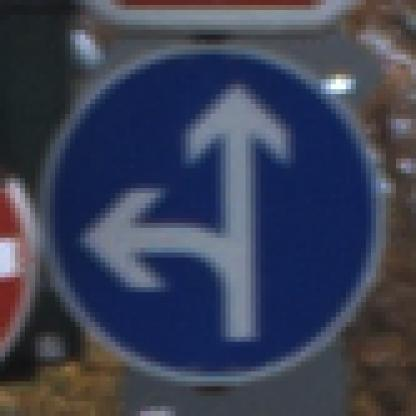Straight or Left: (36, 41, 382, 382)
